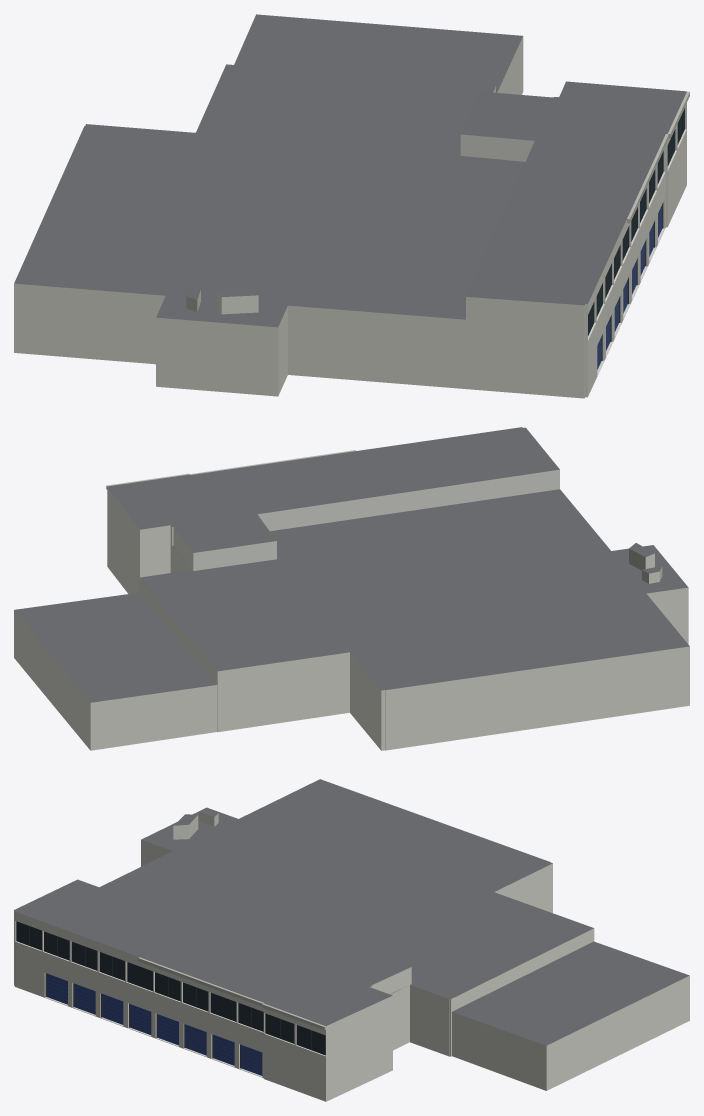
Rendered from recipe-large-cgm-168-201629.glb.
3 renders of one model, top to bottom at view 1: azimuth 30°, elevation 25°; view 2: azimuth 150°, elevation 25°; view 3: azimuth 270°, elevation 25°, orthographic. The views are drawn at different scales.
Visible parts, largest first — view 1: cgm-168-201629; view 2: cgm-168-201629; view 3: cgm-168-201629.
Part boxes in pixels (x1,y1,x2,y2): cgm-168-201629: [14, 14, 689, 398]; cgm-168-201629: [14, 427, 689, 750]; cgm-168-201629: [14, 779, 689, 1101].
Size of the model in its own units: 74.21 by 9.79 by 79.23.
